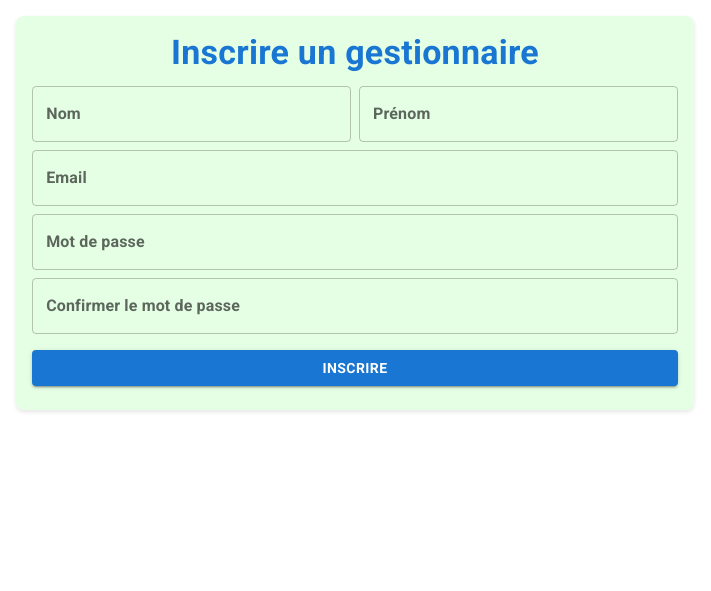
ManagerRegisterPage › displays error for missing required fields
This screenshot has width=711, height=591.
// Submit form without filling any fields
Click the button with test id "submit-button" at (355, 368), box [32,350,678,386]
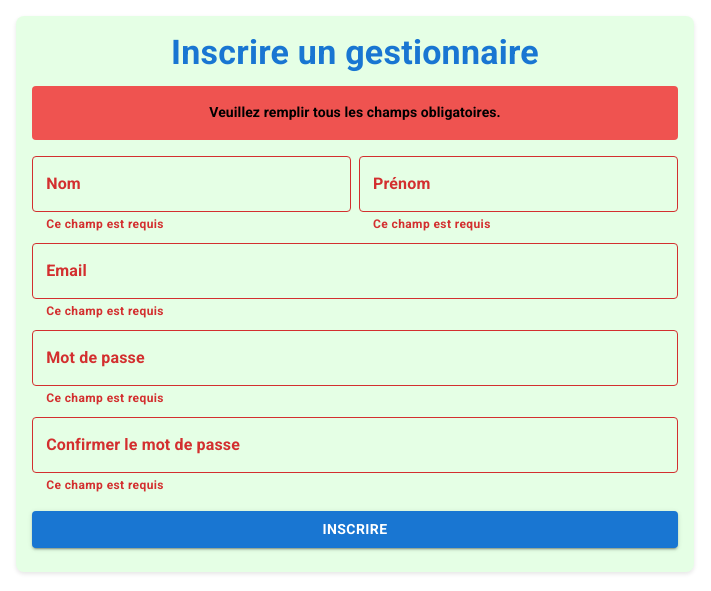
expect the heading "Veuillez remplir tous les champs obligatoires." is shown: met, box [209,104,501,120]
